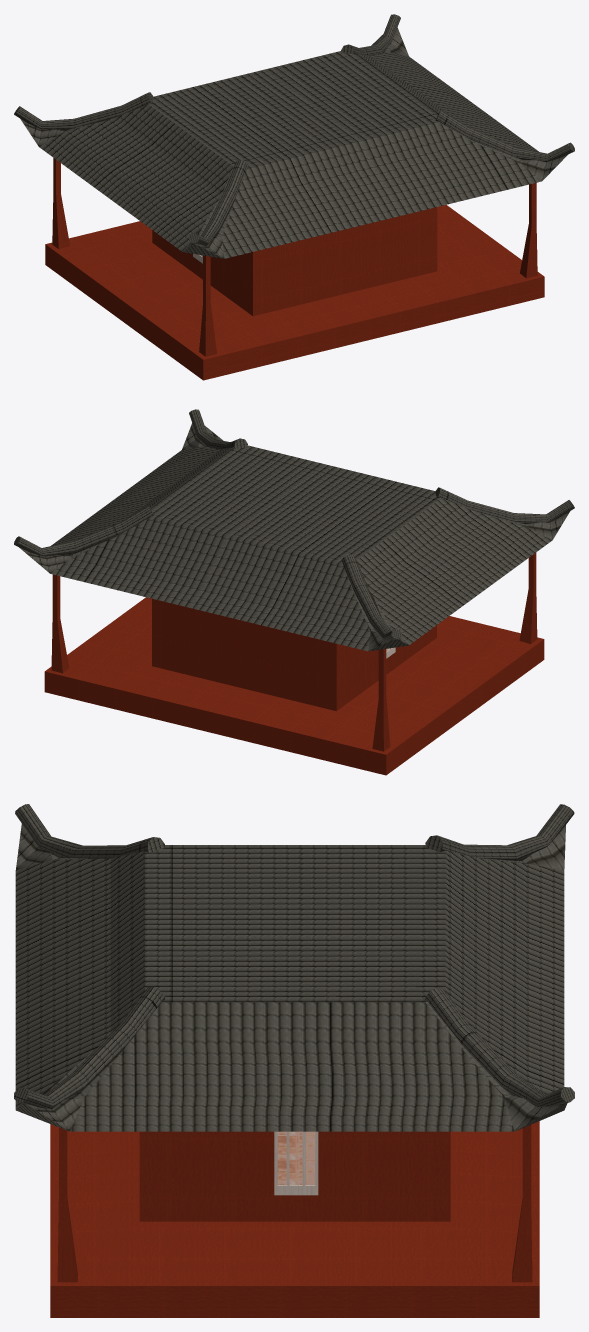
File: castle_3.fbx
3 renders of one model, top to bottom at view 1: azimuth 30°, elevation 25°; view 2: azimuth 150°, elevation 25°; view 3: azimuth 270°, elevation 25°, orthographic. The views are drawn at different scales.
Visible parts, largest first — view 1: polySurface8; view 2: polySurface8; view 3: polySurface8.
Boxes of the visible parts, <box> form: polySurface8: <box>14,14,574,380</box>; polySurface8: <box>14,409,574,775</box>; polySurface8: <box>14,804,574,1317</box>.
Size of the model in its own units: 3.32 by 1.47 by 2.7.
